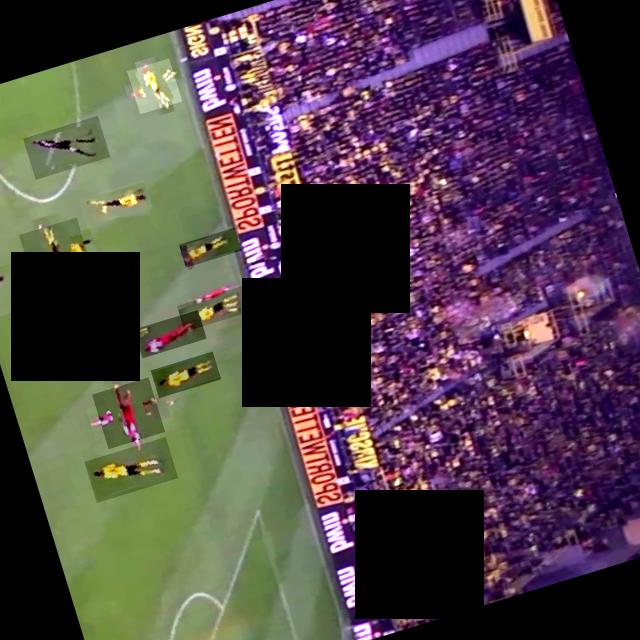referee: (22, 116, 108, 180)
soccer-player: (83, 437, 177, 502), (18, 217, 92, 291), (90, 377, 163, 449), (77, 178, 152, 230), (132, 310, 205, 358), (149, 351, 220, 398), (176, 286, 248, 332), (126, 58, 181, 114), (178, 228, 240, 268), (0, 263, 23, 321)
